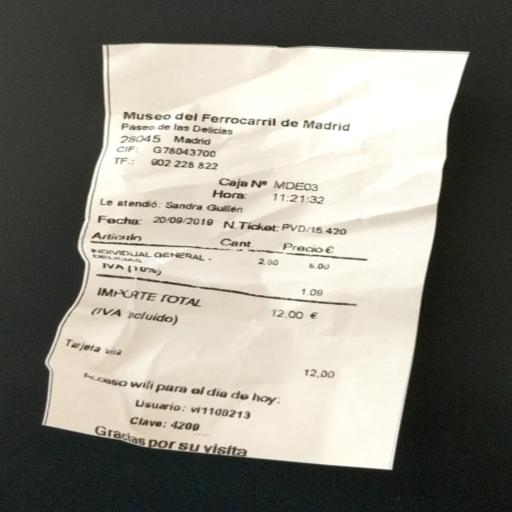paper: (37, 11, 467, 484)
